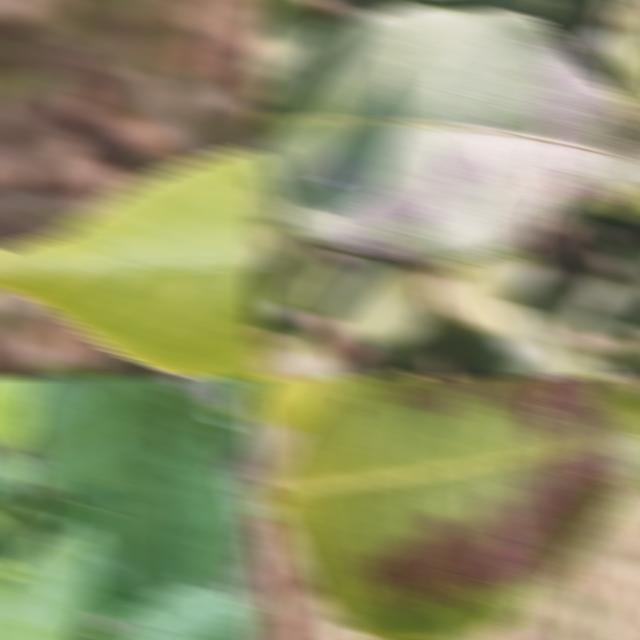Leaf: (250, 4, 640, 268), (262, 376, 640, 640), (0, 145, 262, 378), (110, 391, 220, 609), (27, 376, 176, 489), (24, 499, 143, 618), (0, 526, 103, 640), (447, 300, 569, 378), (97, 585, 262, 640), (328, 265, 433, 348), (186, 470, 245, 591), (432, 255, 519, 333), (250, 0, 327, 78), (16, 376, 85, 458), (250, 376, 336, 430), (0, 376, 45, 455), (610, 244, 640, 307), (0, 522, 30, 566)
